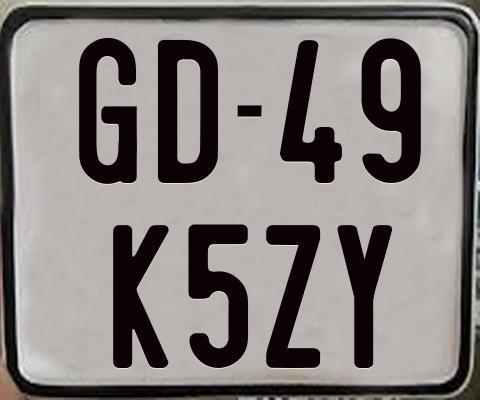4: (278, 40, 343, 188)
5: (188, 224, 250, 373)
9: (358, 36, 423, 182)
D: (158, 37, 218, 183)
G: (79, 36, 143, 185)
K: (110, 223, 166, 371)
Y: (334, 225, 394, 368)
Z: (264, 223, 323, 370)
